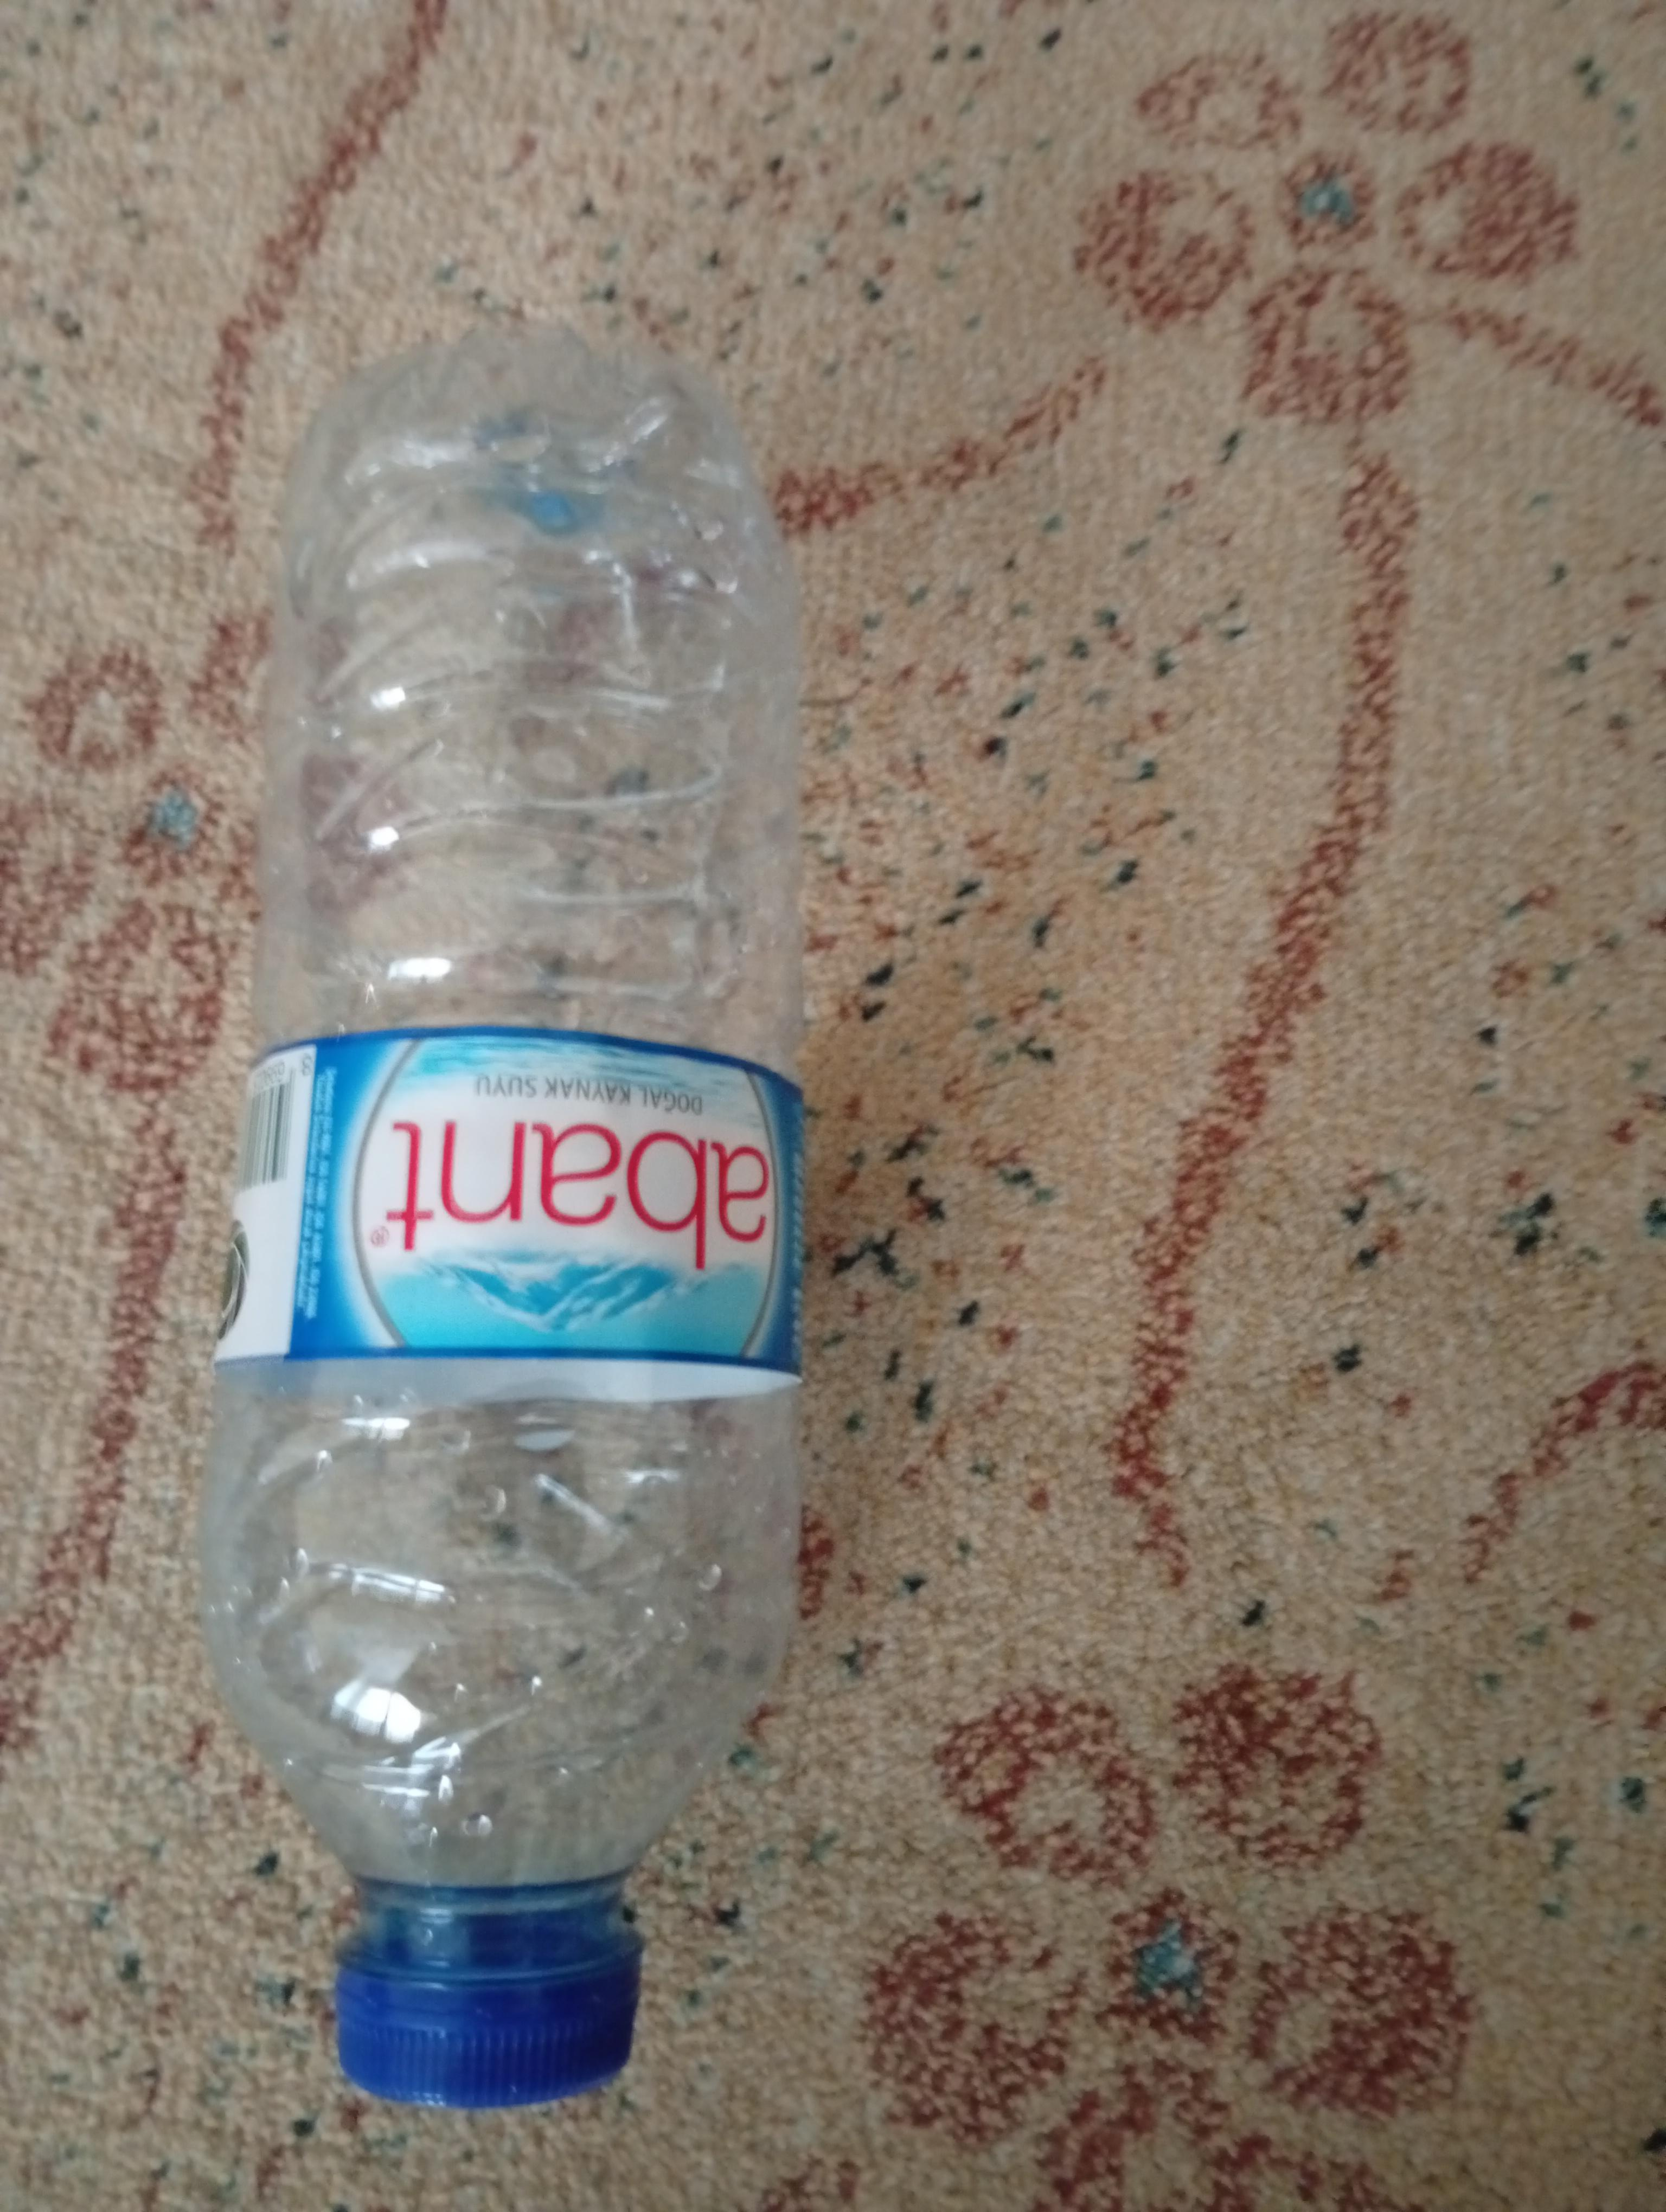etiketli: (133, 252, 964, 2212)
